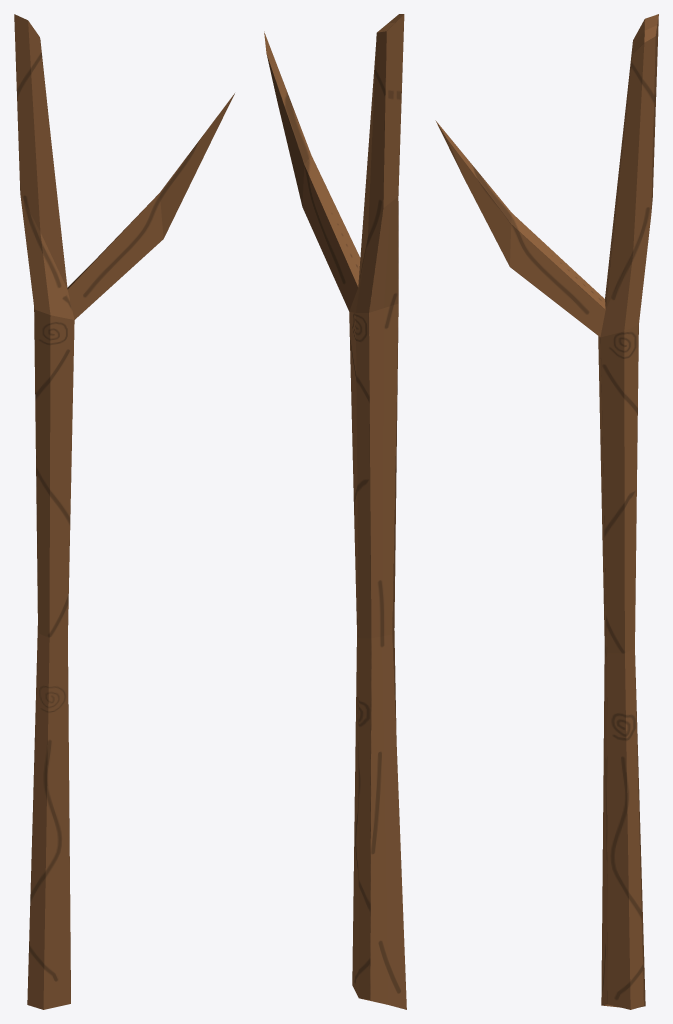
The model's file is Palo.fbx.
3 views of the same model, side by side, from view 1: azimuth 90°, elevation 25°; view 2: azimuth 210°, elevation 25°; view 3: azimuth 270°, elevation 25° (orthographic).
Visible parts, largest first — view 1: Cube; view 2: Cube; view 3: Cube.
Part boxes in pixels (<box>): Cube: <box>14,14,234,1009</box>; Cube: <box>264,14,406,1009</box>; Cube: <box>435,14,658,1009</box>.
Size of the model in its own units: 9.93 by 219 by 44.49.
1 material, 1 textured.
